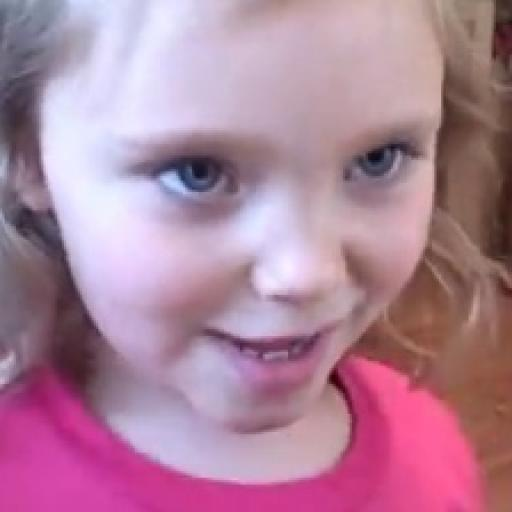Autism: (18, 0, 438, 445)
